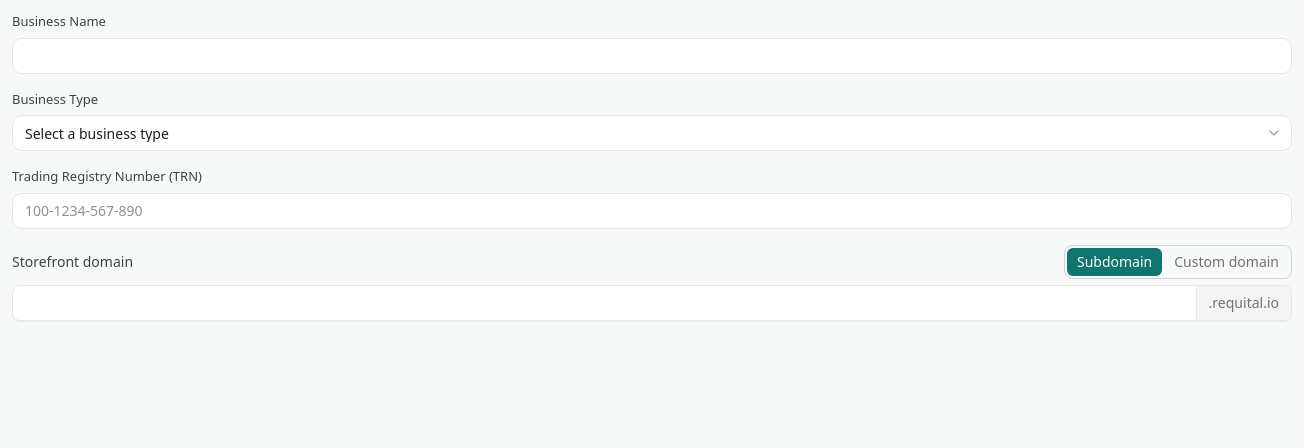
Test: AccountSetupStepBusiness — domain picker › the how-to-connect info section starts collapsed and toggles open on click
What coordinates should you click on to do the following:
click the button "Custom domain"
I would click on:
 (1227, 262)
Its box is [1164,248,1289,276].
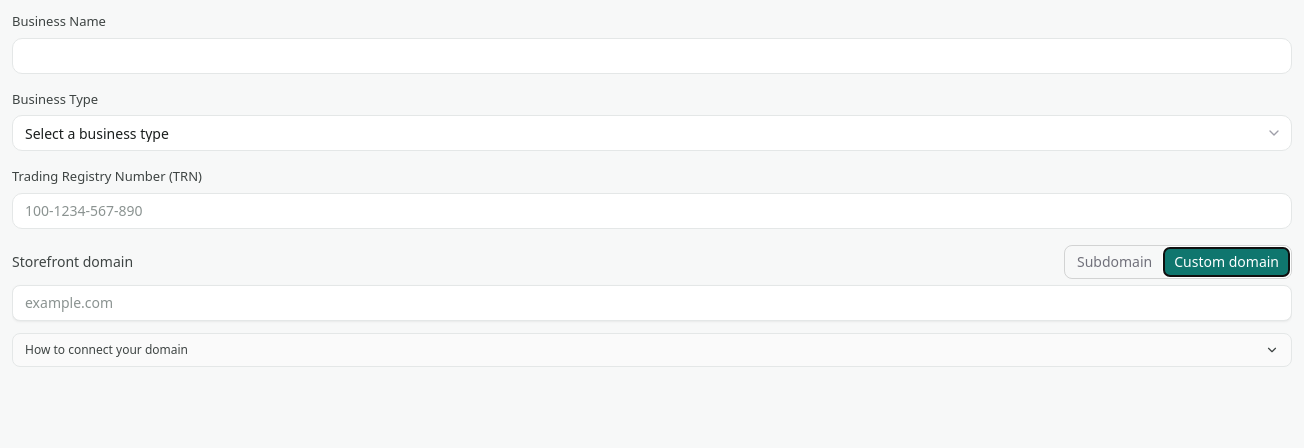
Expected: the text "Log in to your domain registrar" is not shown
What coordinates should you click on to do the following:
click the button "How to connect your domain"
I would click on:
 (106, 349)
Its box is [25,342,1279,358].
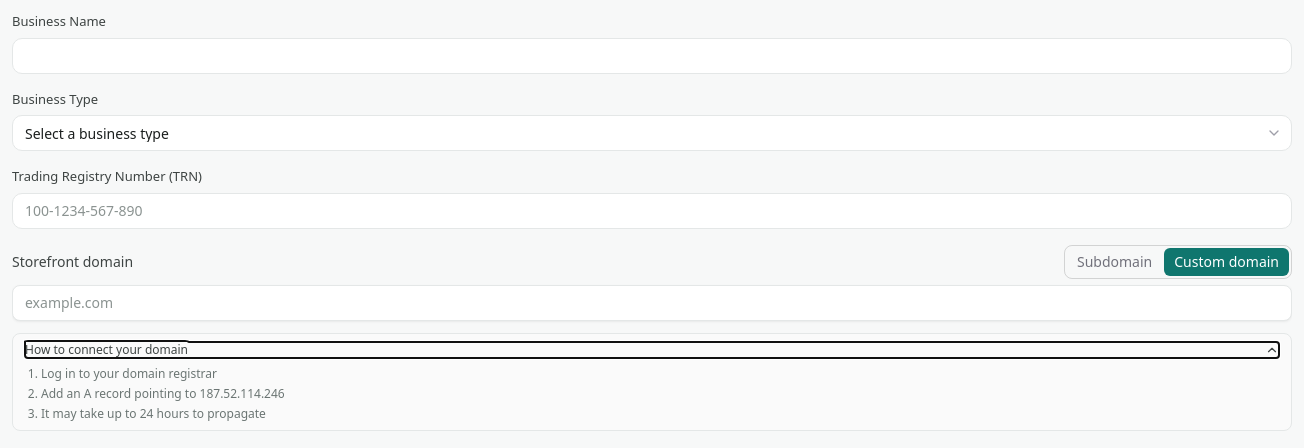
Now the list item "Log in to your domain registrar" is shown, box [41,364,217,382]
What coordinates should you click on to do the following:
click the button "How to connect your domain"
I would click on:
 (106, 349)
Its box is [25,342,1279,358].
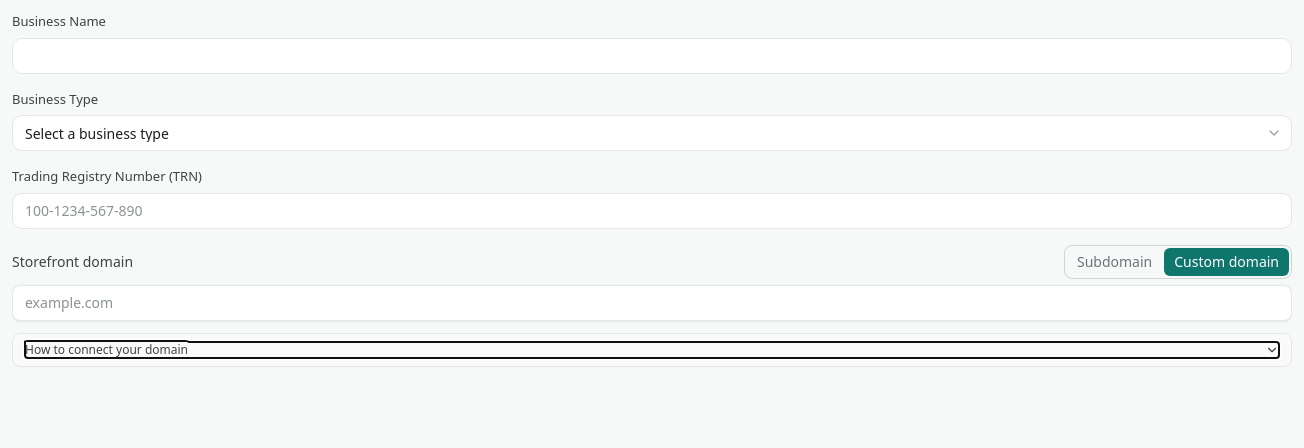
Now the list item "Log in to your domain registrar" is gone
